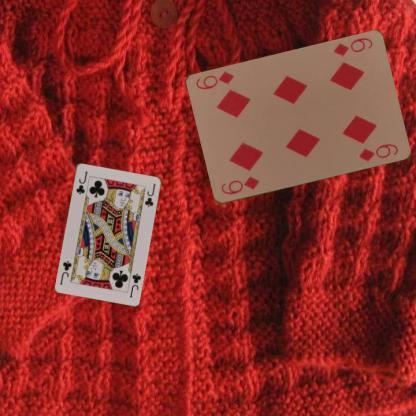6d: (330, 35, 374, 58), (218, 174, 260, 196)
Jc: (127, 270, 142, 300), (74, 168, 88, 196)
